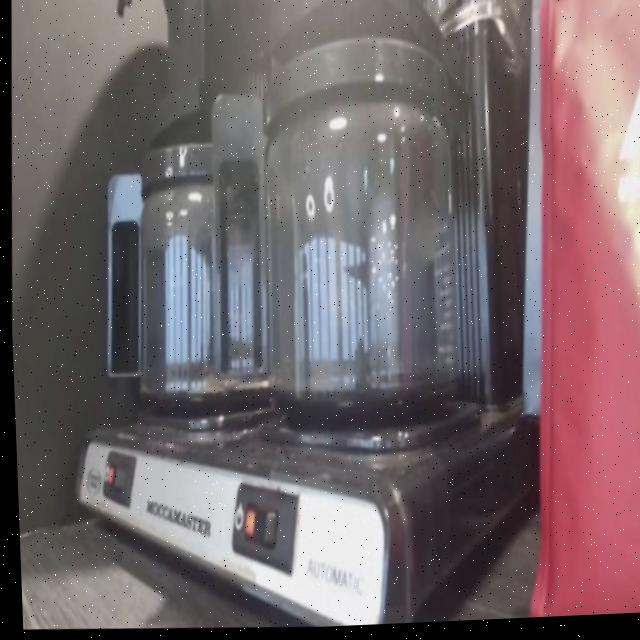nocoffee: (252, 117, 460, 426), (124, 189, 263, 424)
